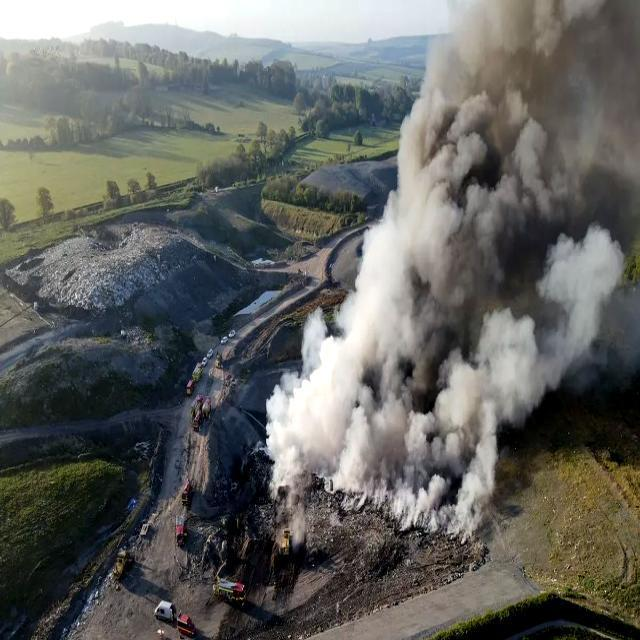Smoke: (255, 0, 640, 538)
